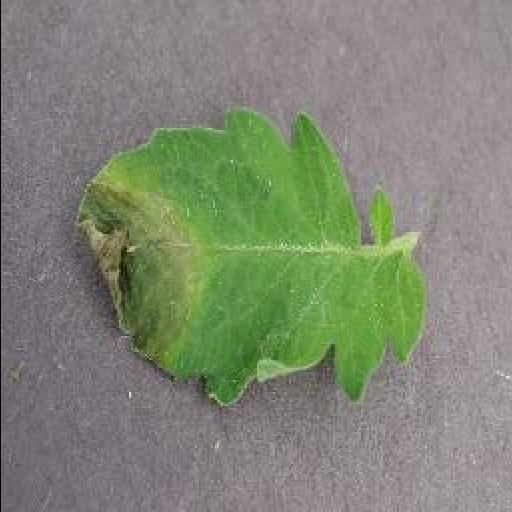disease_tomato: (69, 109, 435, 407)
